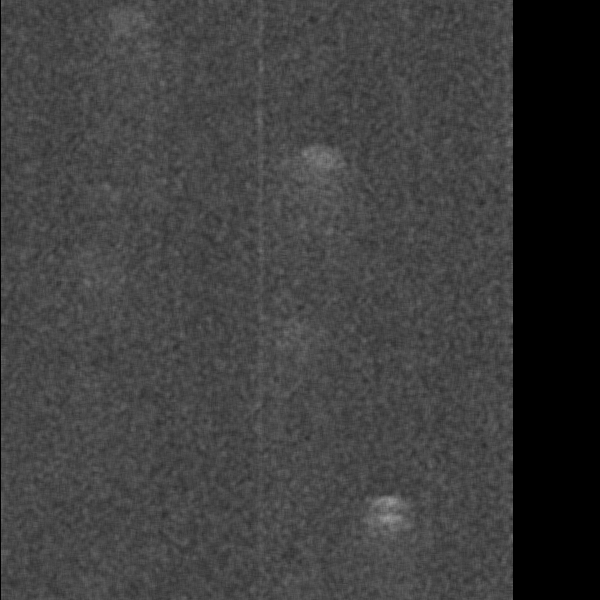spark: (200, 102, 246, 190), (172, 56, 199, 121), (496, 196, 519, 270), (52, 491, 71, 540), (1, 295, 15, 340)
